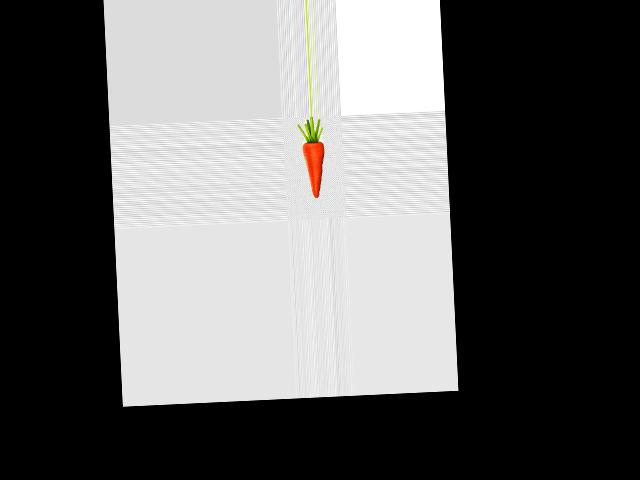carrot: (299, 136, 328, 200)
